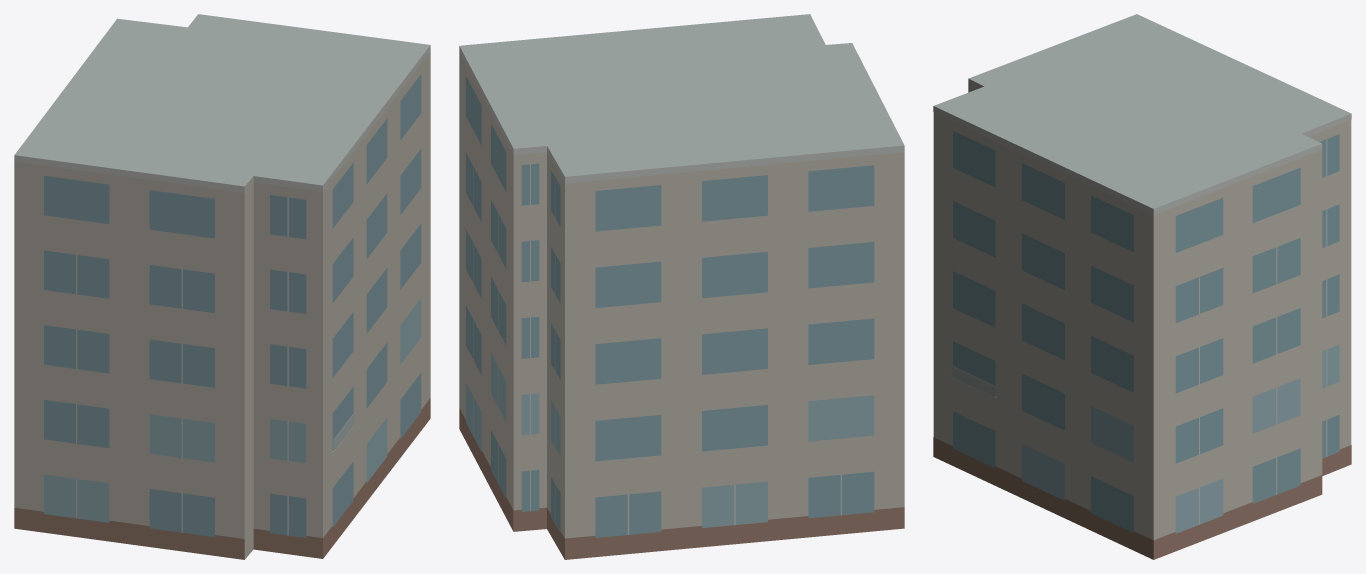
File: survey-upis-32836348.glb
3 views of the same model, side by side, from view 1: azimuth 30°, elevation 25°; view 2: azimuth 150°, elevation 25°; view 3: azimuth 270°, elevation 25° (orthographic). The views are drawn at different scales.
Visible parts, largest first — view 1: survey-upis-32836348.tmp; view 2: survey-upis-32836348.tmp; view 3: survey-upis-32836348.tmp.
Part boxes in pixels (bbox=[...]): survey-upis-32836348.tmp: bbox=[14, 14, 430, 559]; survey-upis-32836348.tmp: bbox=[459, 14, 904, 559]; survey-upis-32836348.tmp: bbox=[933, 14, 1351, 559].
Size of the model in its own units: 16.93 by 14.2 by 15.34.
